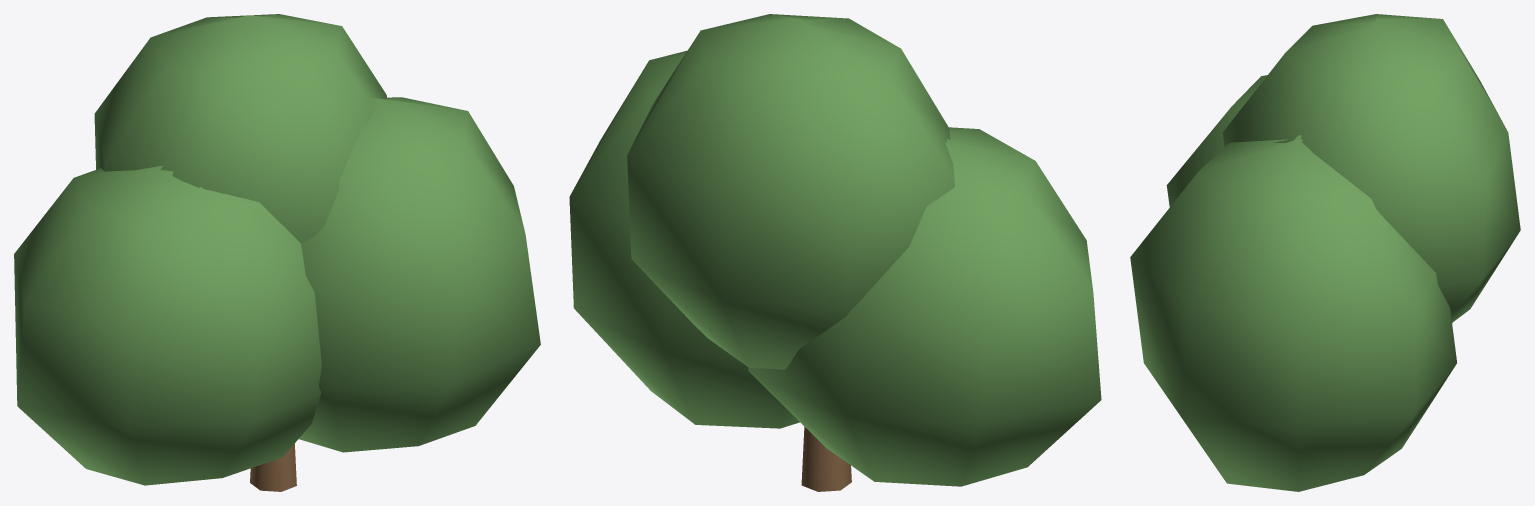
3 renders of one model, left to right at view 1: azimuth 30°, elevation 25°; view 2: azimuth 150°, elevation 25°; view 3: azimuth 270°, elevation 25°, orthographic. The views are drawn at different scales.
Parts seen in each view (by area): view 1: molen.entities.vegetation.shrub; view 2: molen.entities.vegetation.shrub; view 3: molen.entities.vegetation.shrub.
Boxes of the visible parts, x1,y1,x2,y2 form: molen.entities.vegetation.shrub: [14, 14, 540, 491]; molen.entities.vegetation.shrub: [569, 14, 1101, 491]; molen.entities.vegetation.shrub: [1130, 14, 1520, 491].
Bounding box in the file's own units: 2.28 × 2.03 × 1.61.
